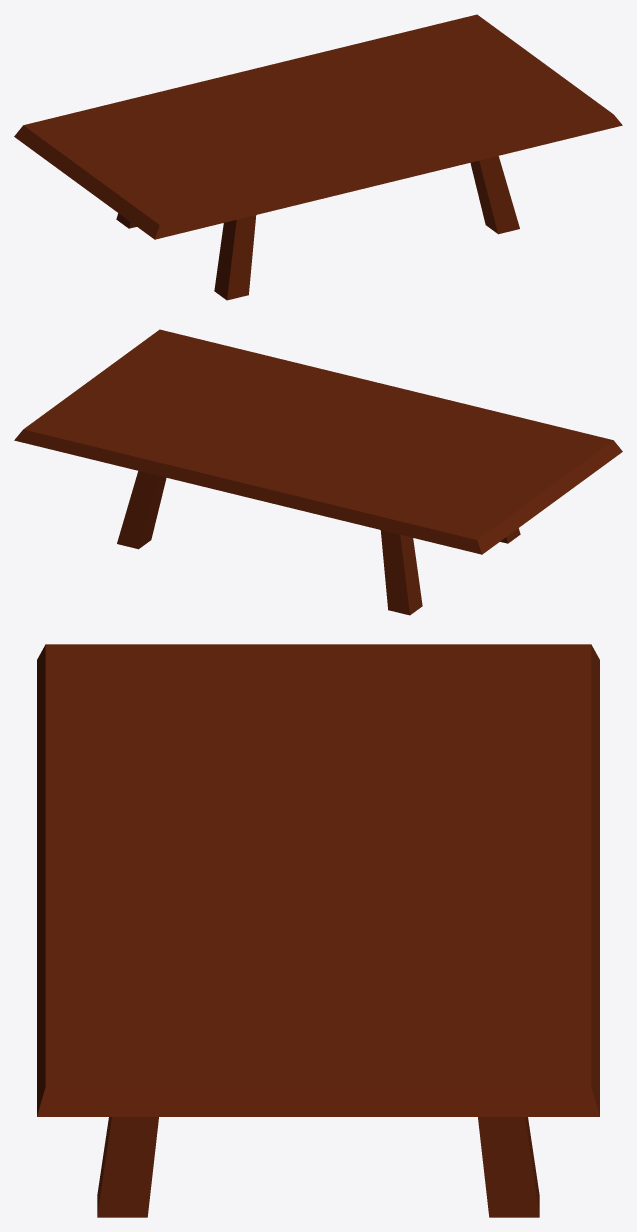
The model's file is House_Kitchen_Table.FBX.
The picture shows the model from 3 angles, top to bottom: view 1: azimuth 30°, elevation 25°; view 2: azimuth 150°, elevation 25°; view 3: azimuth 270°, elevation 25°; orthographic projection. The views are drawn at different scales.
Visible parts, largest first — view 1: House_Kitchen_Table_sectionCenter, House_Kitchen_Table_sectionLeft, House_Kitchen_Table_sectionRight, House_Kitchen_Table_leg1, House_Kitchen_Table_leg4; view 2: House_Kitchen_Table_sectionCenter, House_Kitchen_Table_sectionLeft, House_Kitchen_Table_sectionRight, House_Kitchen_Table_leg2, House_Kitchen_Table_leg3; view 3: House_Kitchen_Table_sectionCenter, House_Kitchen_Table_sectionRight, House_Kitchen_Table_sectionLeft, House_Kitchen_Table_leg3, House_Kitchen_Table_leg4.
Boxes of the visible parts, x1,y1,x2,y2 form: House_Kitchen_Table_sectionCenter: (139,35,484,206); House_Kitchen_Table_sectionLeft: (14,97,304,239); House_Kitchen_Table_sectionRight: (391,14,622,158); House_Kitchen_Table_leg1: (214,215,256,300); House_Kitchen_Table_leg4: (470,156,519,234); House_Kitchen_Table_sectionCenter: (96,363,468,528); House_Kitchen_Table_sectionLeft: (362,405,622,554); House_Kitchen_Table_sectionRight: (14,329,298,460); House_Kitchen_Table_leg2: (380,530,422,615); House_Kitchen_Table_leg3: (117,471,166,549); House_Kitchen_Table_sectionCenter: (37,757,599,1035); House_Kitchen_Table_sectionRight: (37,951,599,1116); House_Kitchen_Table_sectionLeft: (37,644,599,790); House_Kitchen_Table_leg3: (478,1117,539,1217); House_Kitchen_Table_leg4: (97,1117,158,1217).
Bounding box in the file's own units: 686 × 146 × 357.
